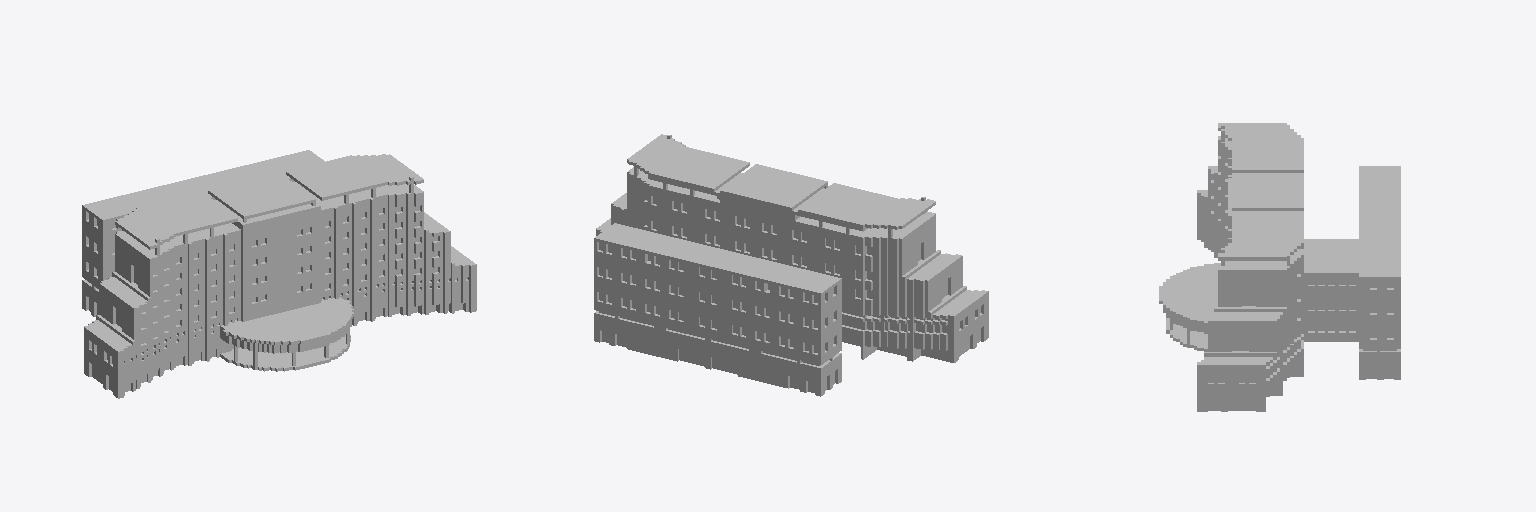
Rendered from White House.obj.
3 views of the same model, side by side, from view 1: azimuth 30°, elevation 25°; view 2: azimuth 150°, elevation 25°; view 3: azimuth 270°, elevation 25° (orthographic).
Bounding box in the file's own units: 120 × 44 × 70.